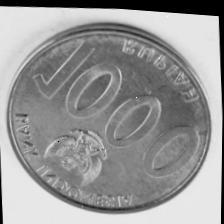coin_1000_e2010: (1, 23, 212, 215)
